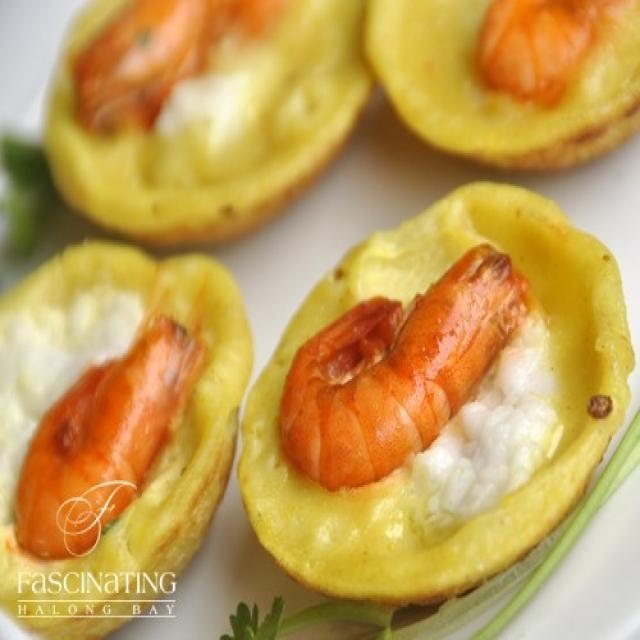炸货点心: (5, 10, 620, 622)
熟制海鲜: (5, 10, 620, 622)
